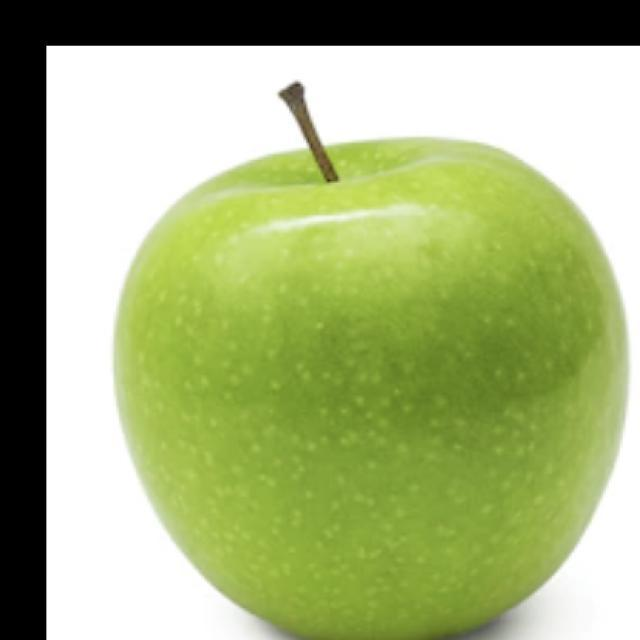Fresh Apple: (108, 138, 640, 640)
